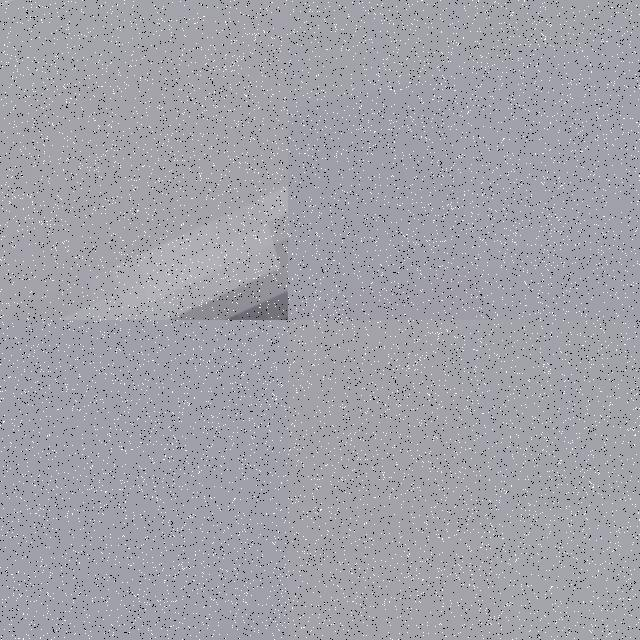drone: (0, 0, 288, 320)
